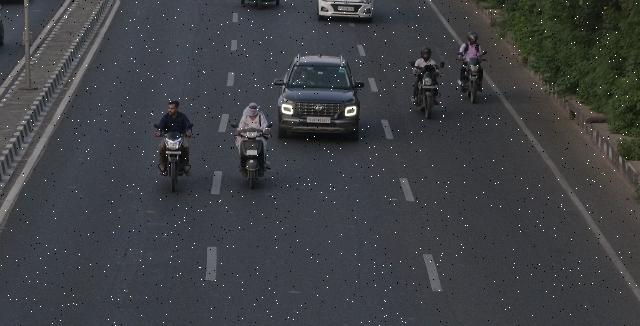With Helmet: (418, 44, 434, 59), (467, 30, 481, 44)
Without Helmet: (164, 100, 182, 114), (243, 101, 260, 115)
